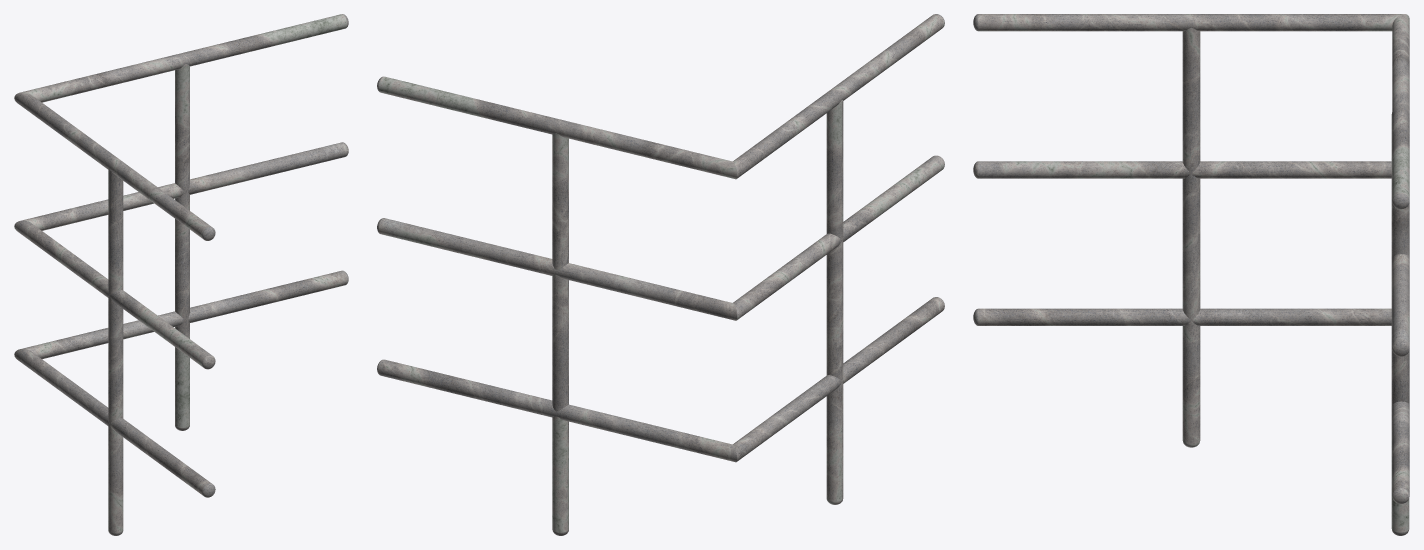
The model's file is C_Fence_2.fbx.
3 renders of one model, left to right at view 1: azimuth 30°, elevation 25°; view 2: azimuth 150°, elevation 25°; view 3: azimuth 270°, elevation 25°, orthographic. The views are drawn at different scales.
Visible parts, largest first — view 1: Horizontal_01, Horizontal_02, Horizontal_03, Vertical_02, Vertical_01; view 2: Horizontal_01, Horizontal_03, Horizontal_02, Vertical_02, Vertical_01; view 3: Horizontal_01, Horizontal_02, Horizontal_03, Vertical_02, Vertical_01.
Boxes of the visible parts, x1=… form: Horizontal_01: x1=14, y1=14, x2=348, y2=240; Horizontal_02: x1=14, y1=142, x2=348, y2=369; Horizontal_03: x1=14, y1=270, x2=348, y2=497; Vertical_02: x1=108, y1=168, x2=123, y2=535; Vertical_01: x1=175, y1=64, x2=189, y2=430; Horizontal_01: x1=377, y1=14, x2=944, y2=179; Horizontal_03: x1=377, y1=297, x2=944, y2=462; Horizontal_02: x1=377, y1=155, x2=944, y2=320; Vertical_02: x1=826, y1=100, x2=843, y2=504; Vertical_01: x1=552, y1=133, x2=568, y2=535; Horizontal_01: x1=973, y1=14, x2=1409, y2=209; Horizontal_02: x1=973, y1=161, x2=1409, y2=356; Horizontal_03: x1=973, y1=308, x2=1409, y2=503; Vertical_02: x1=1182, y1=28, x2=1200, y2=447; Vertical_01: x1=1391, y1=112, x2=1409, y2=535.
Size of the model in its own units: 18.79 by 20.52 by 18.79.
